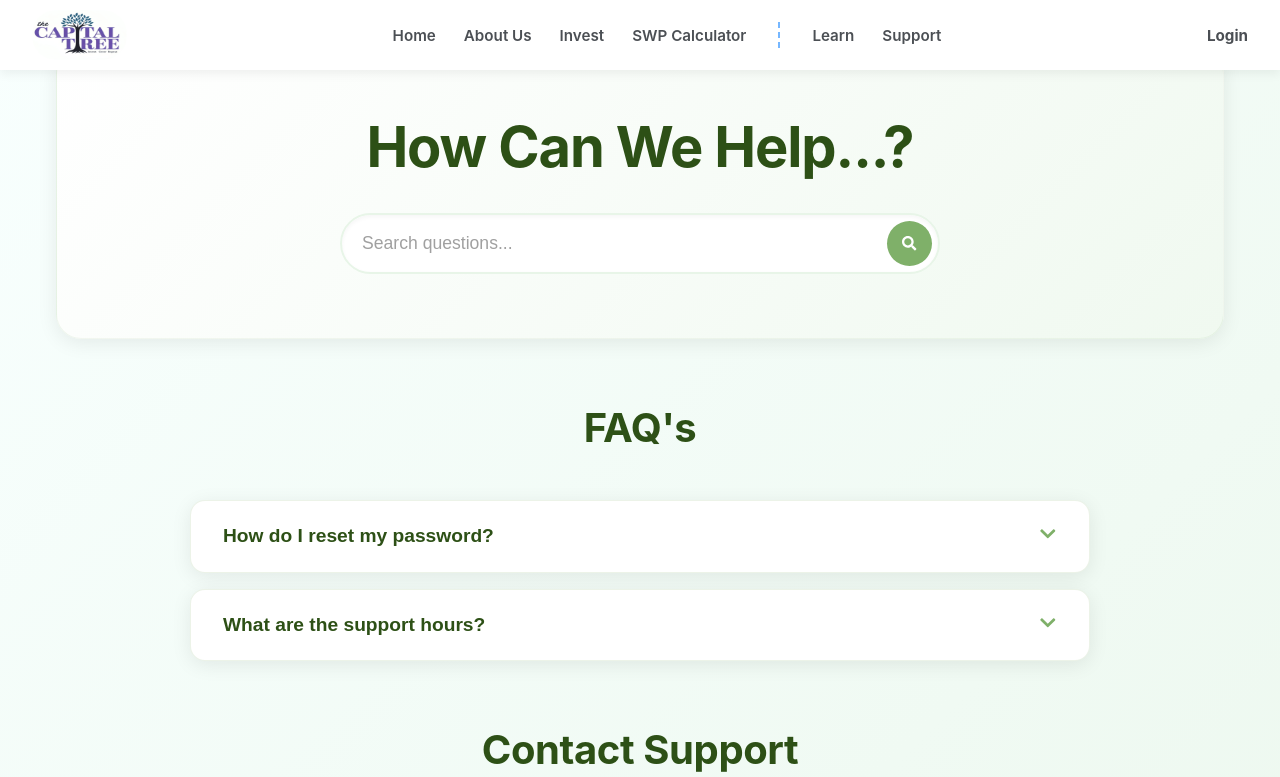
Test case: Support Page › toggles FAQ answer visibility on click
The image size is (1280, 777).
First click: answer becomes visible
Click the button "How do I reset my password?": (358, 536) [191,501,1089,572]
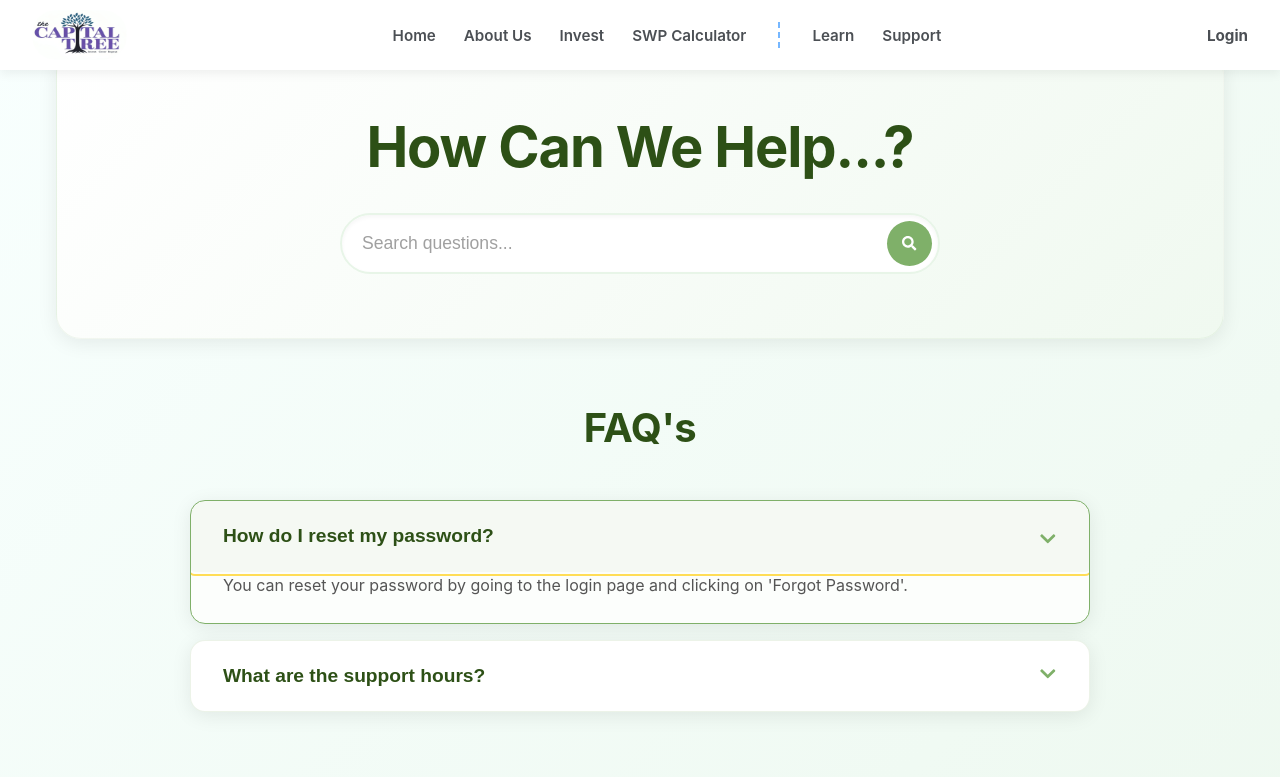
Expected: the text "You can reset your password by going to the login page and clicking on 'Forgot Password'." is shown, [223,575,908,595]
Second click: answer becomes hidden again
Click the button "How do I reset my password?": (358, 536) [191,501,1089,572]
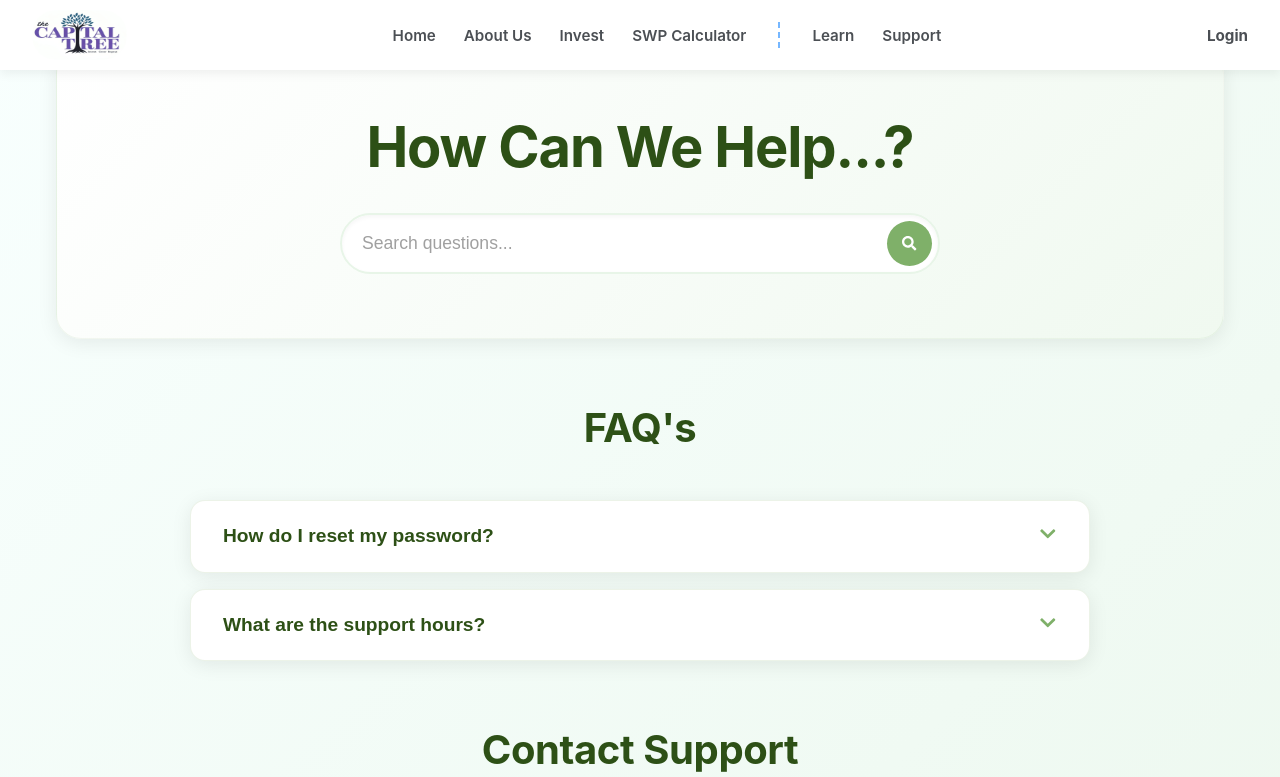
Expected: the text "You can reset your password by going to the login page and clicking on 'Forgot Password'." is gone
